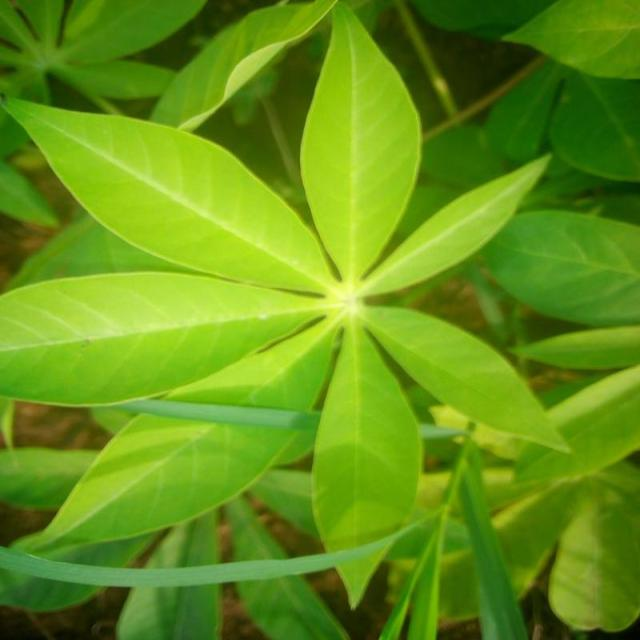cassava leaf: (1, 1, 572, 619), (298, 1, 422, 282)
